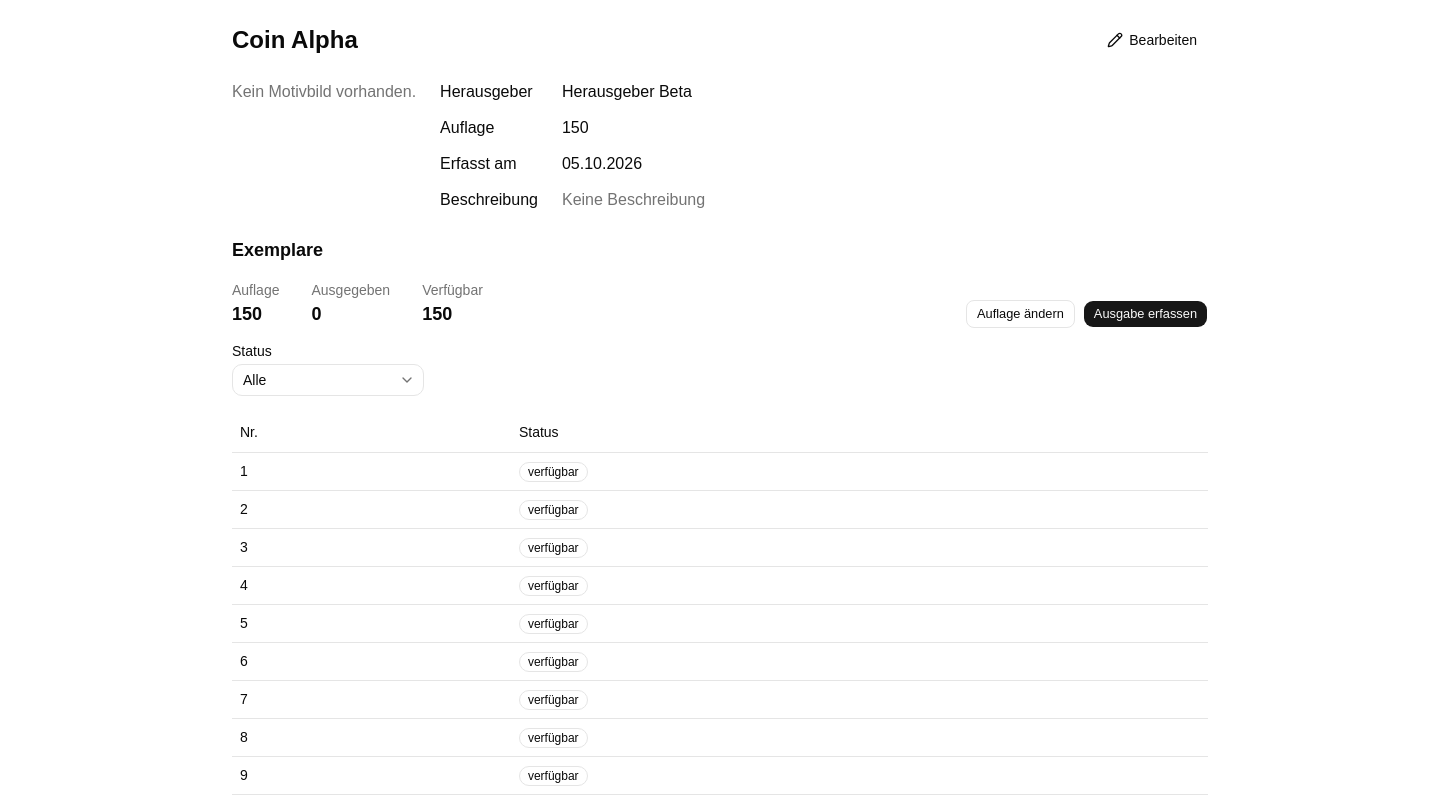
Test: Auflage ändern auf der Detailseite (AK-25) › lädt nach dem Speichern Stammdaten und Kennzahlen neu und meldet „Auflage wurde geändert.“
The image size is (1440, 804).
Step 1. Click the button "Auflage ändern" → (1020, 314), box [966, 300, 1075, 328]
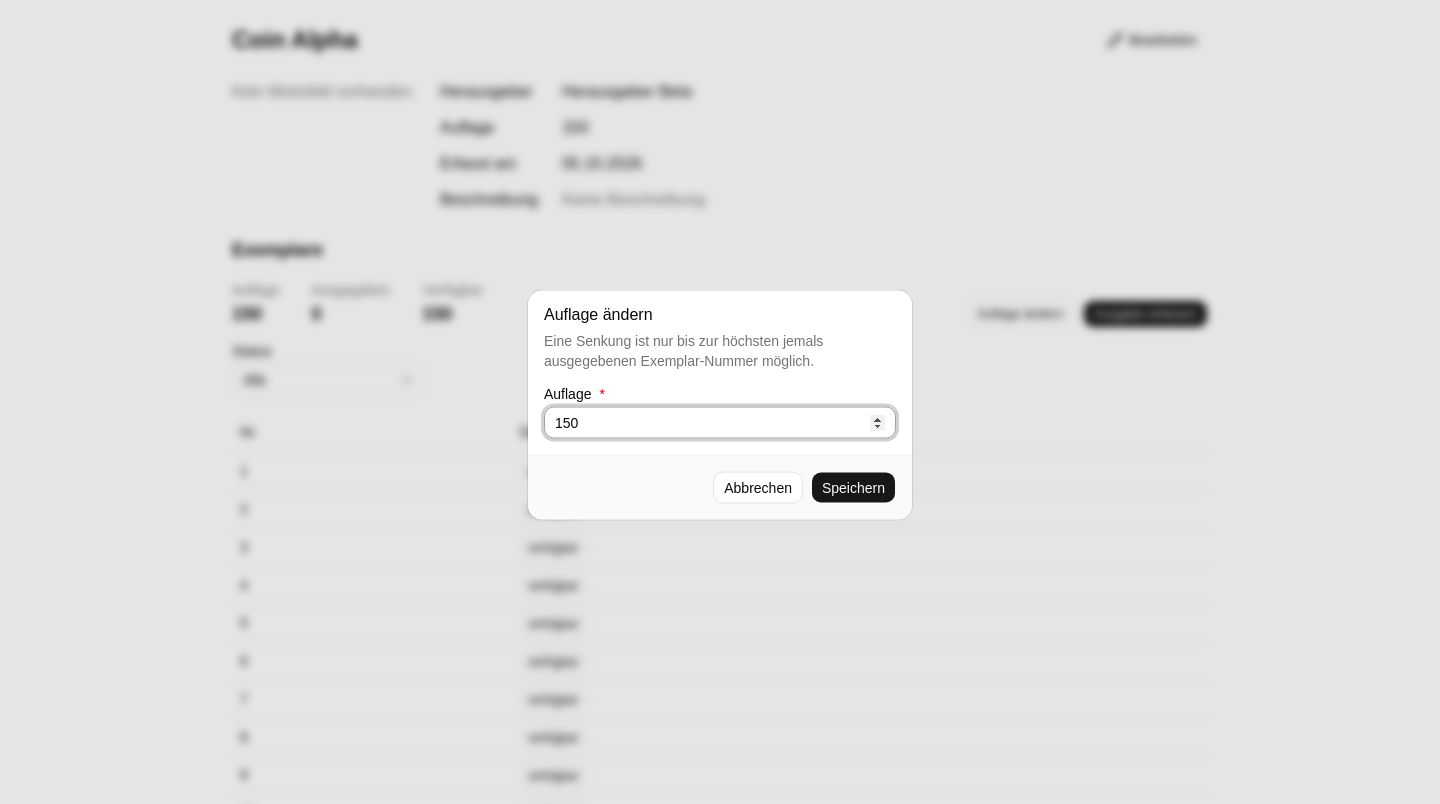
Step 2. Replace the text in the number field labelled "Auflage *" with "200" → (720, 422), box [544, 406, 896, 438]
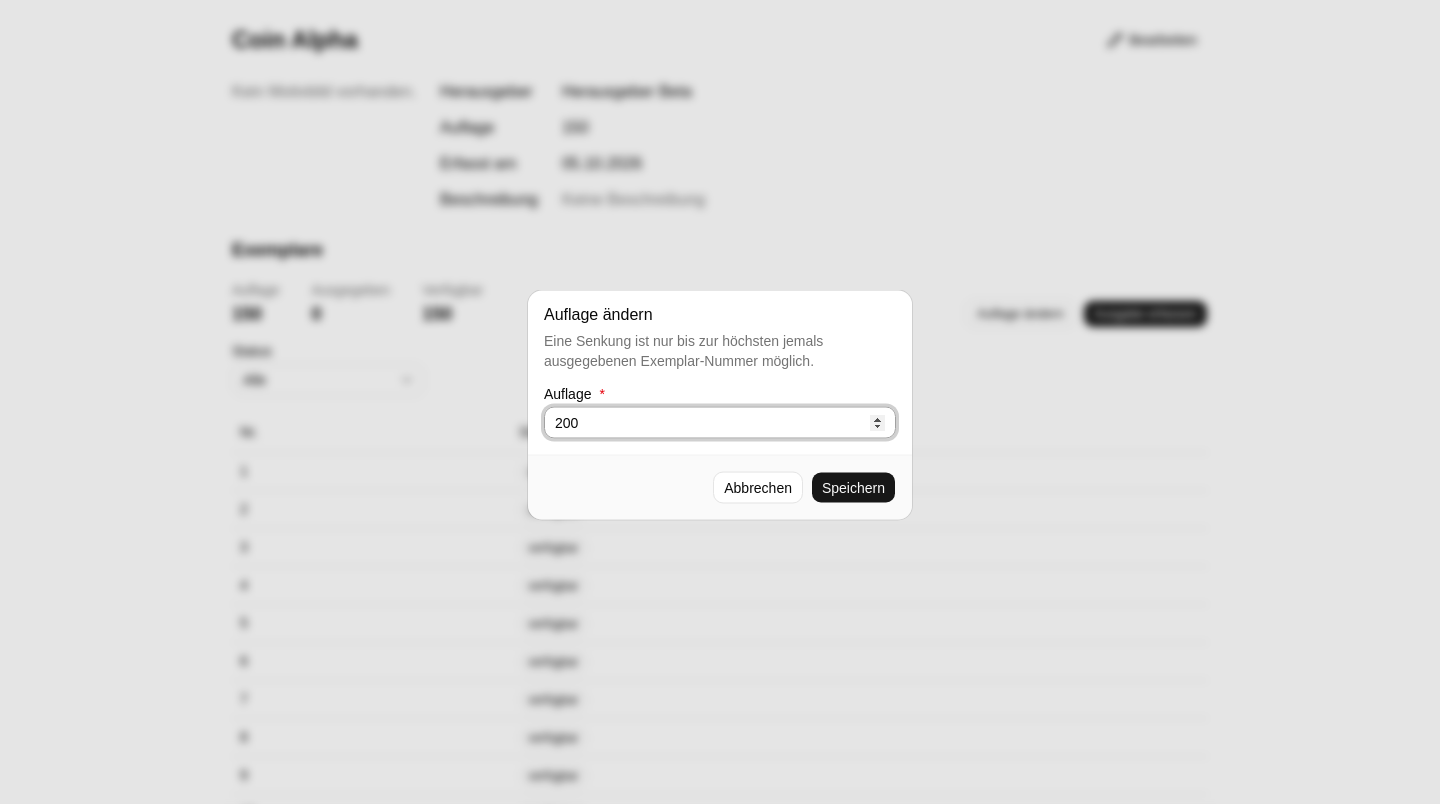
Step 3. Click the button "Speichern" → (854, 488), box [811, 472, 896, 504]
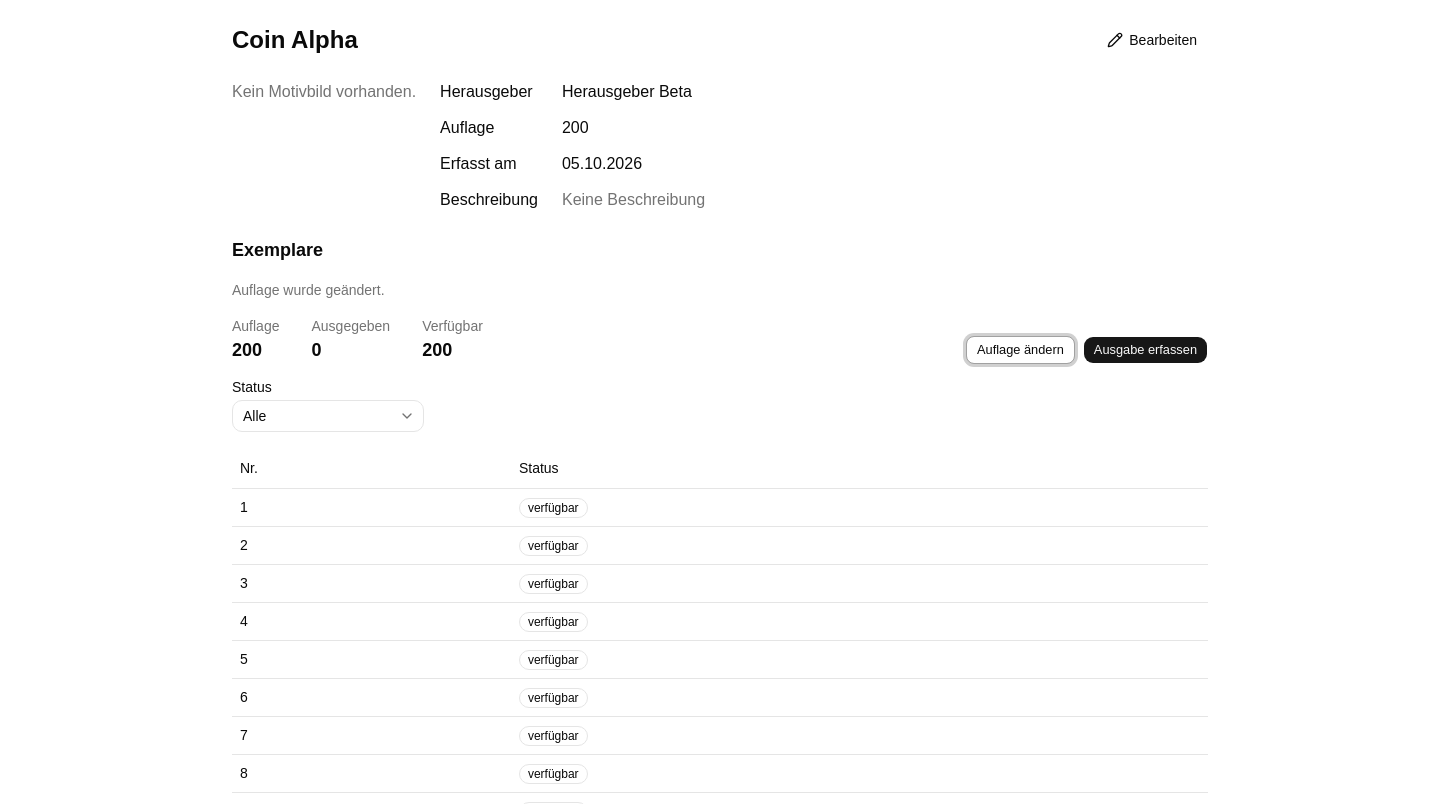
Expected: the text "Auflage" below "Herausgeber Beta" is shown, [440, 119, 494, 136]
Result: the text "200" below "Herausgeber Beta" is shown at [562, 119, 589, 136]
